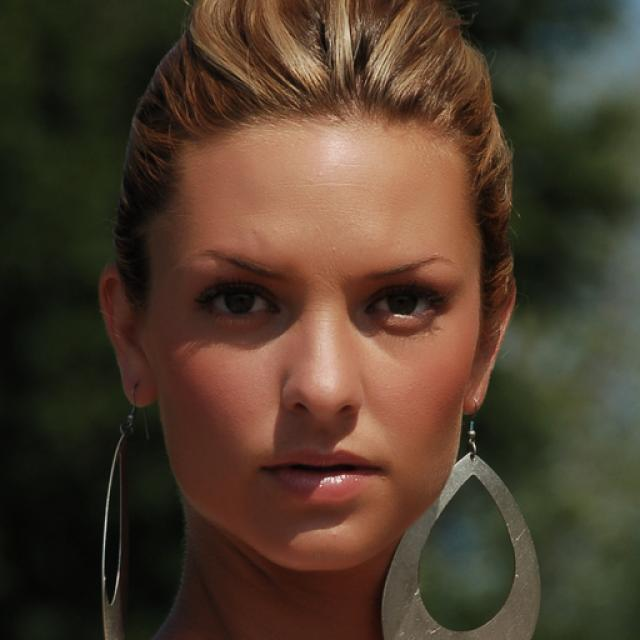anger: (152, 110, 478, 571)
